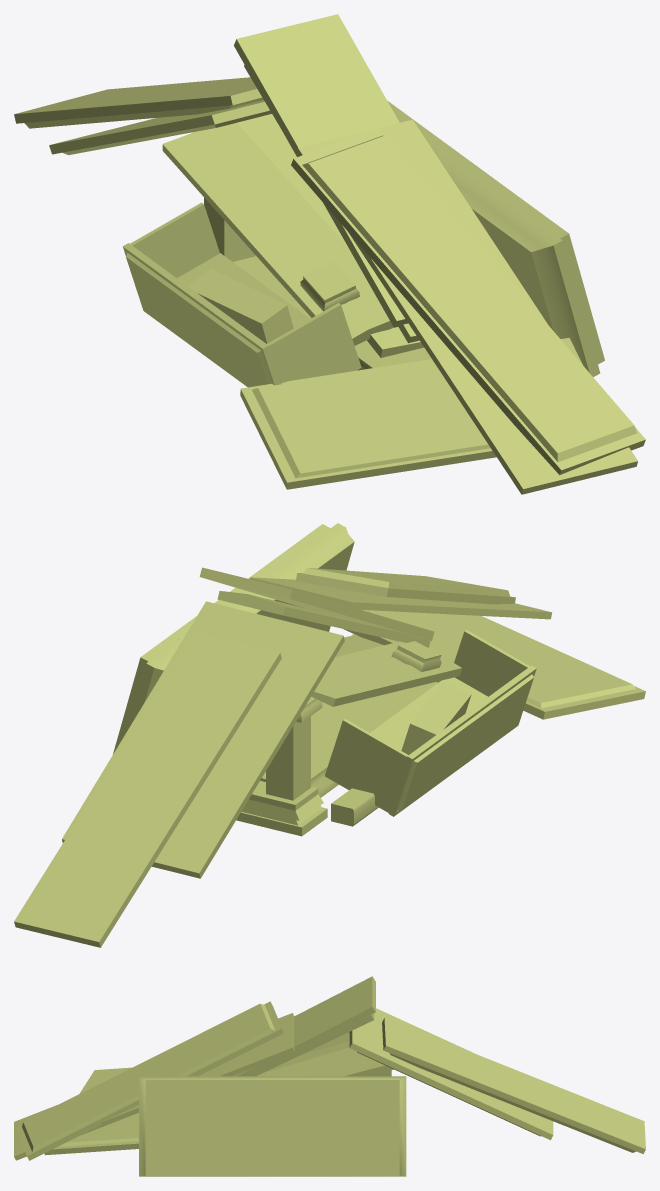
Rendered from Cupboard_12_Break_Lod0.fbx.
3 views of the same model, one above another, from view 1: azimuth 30°, elevation 25°; view 2: azimuth 150°, elevation 25°; view 3: azimuth 270°, elevation 25° (orthographic). The views are drawn at different scales.
Visible parts, largest first — view 1: Cupboard_12_Break_Lod0; view 2: Cupboard_12_Break_Lod0; view 3: Cupboard_12_Break_Lod0.
Boxes of the visible parts, x1,y1,x2,y2 form: Cupboard_12_Break_Lod0: [14, 14, 645, 494]; Cupboard_12_Break_Lod0: [14, 523, 645, 947]; Cupboard_12_Break_Lod0: [14, 976, 645, 1176].
Bounding box in the file's own units: 157 × 106 × 386.
